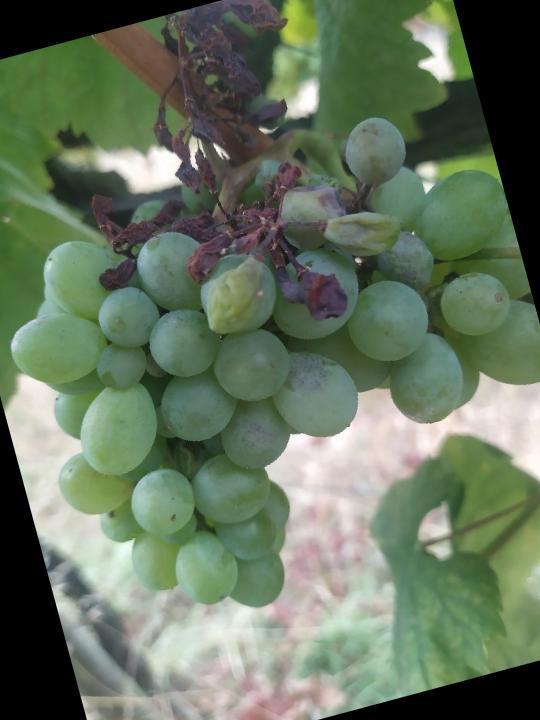grape: (0, 0, 540, 655)
